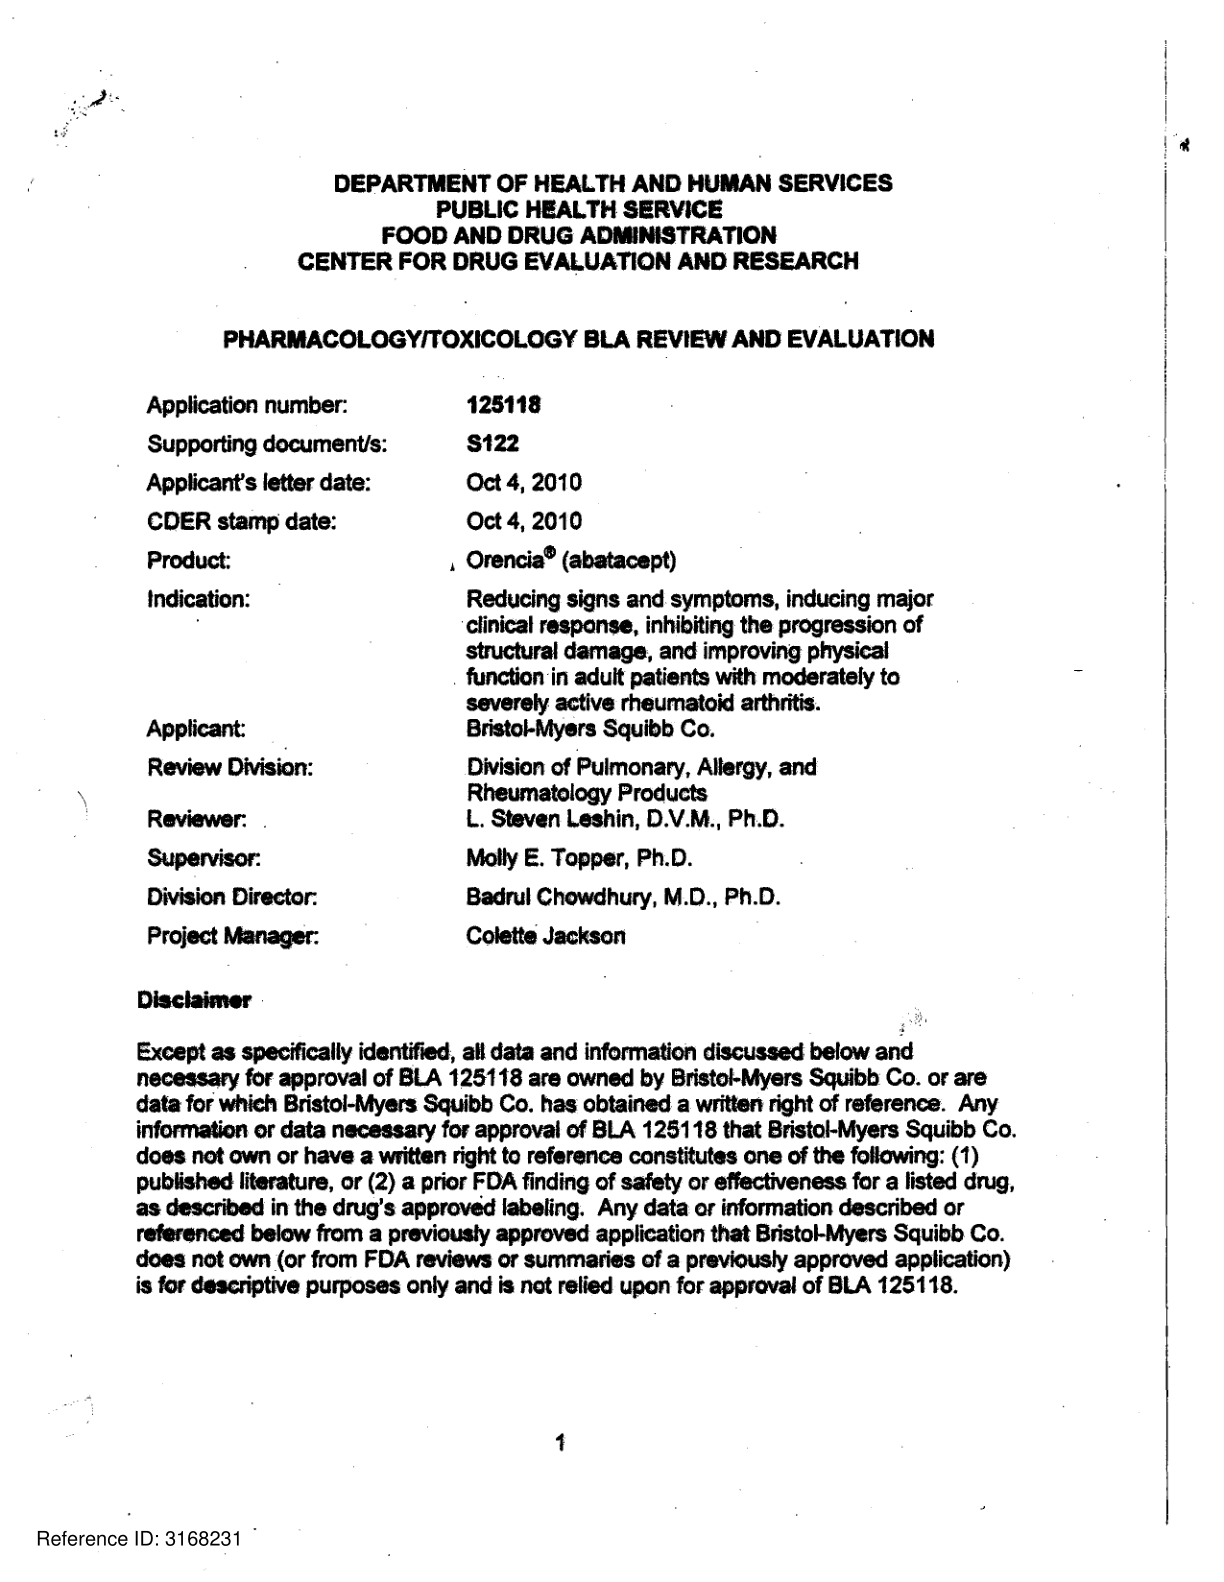nolines: (141, 385, 939, 952)
